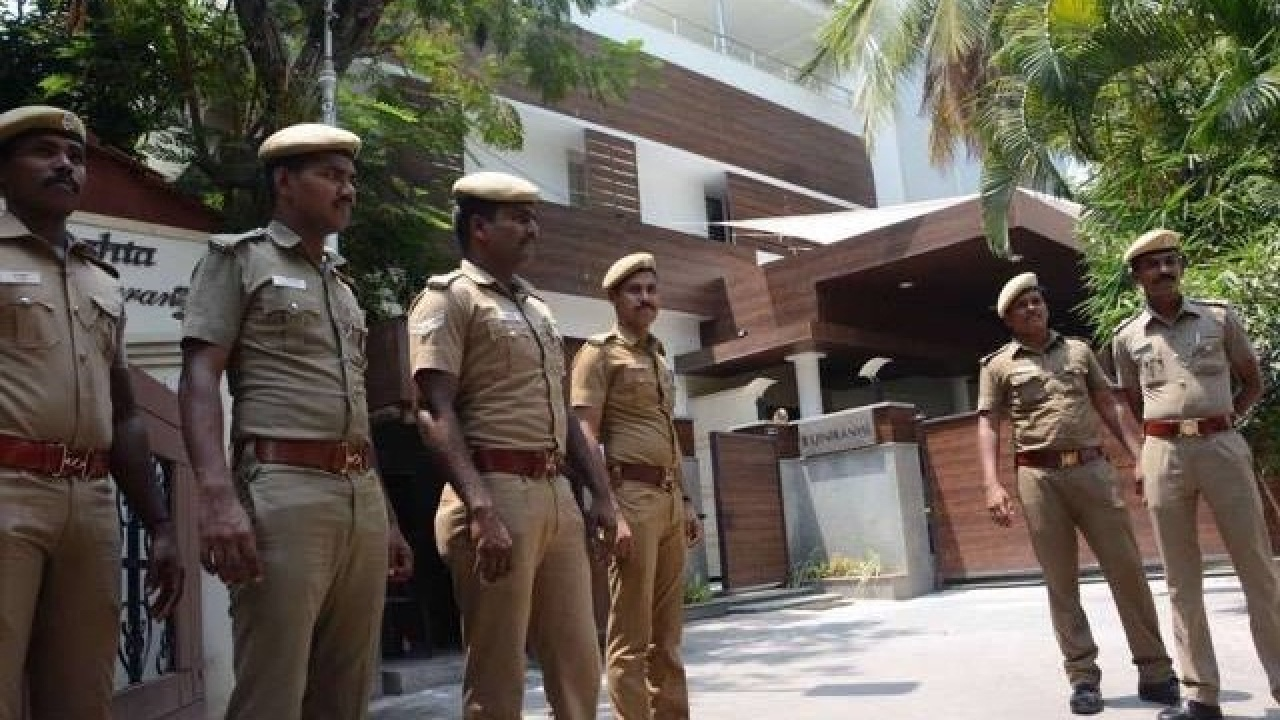bad: (621, 276, 664, 319)
